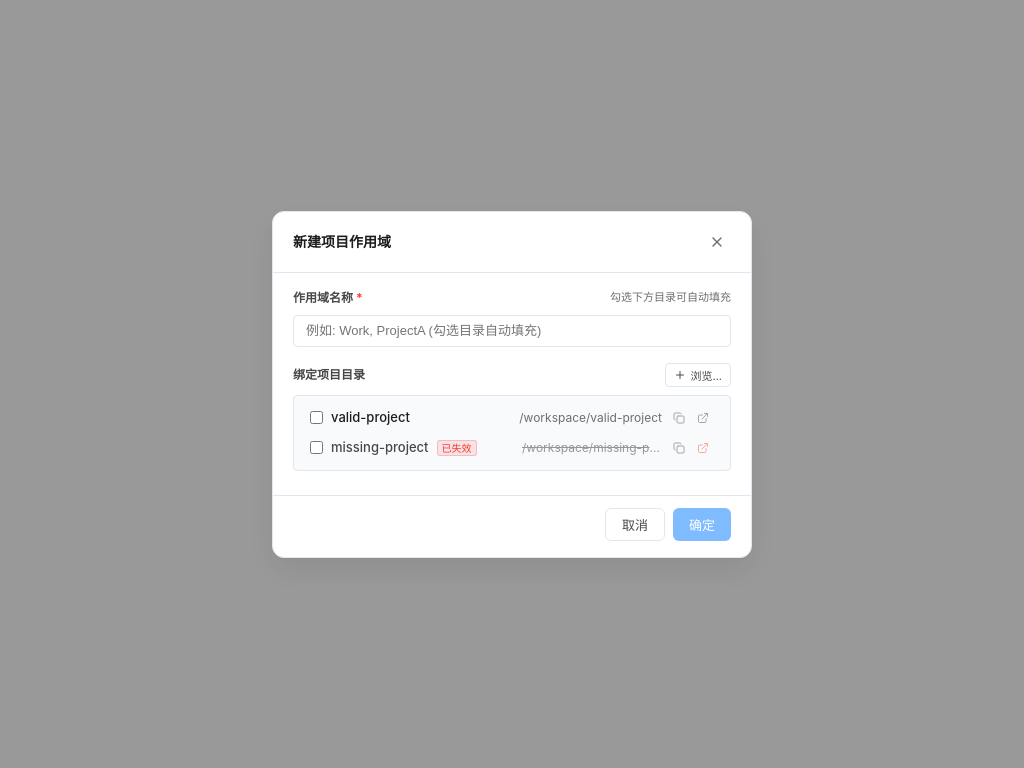
ProfileTabDialogs - 本地目录失效检测与 Finder 打开错误处理 › ProfileTabCreateDialog › 点击通过 Finder 打开不存在的目录时，给出错误通知并自动复制路径
This screenshot has width=1024, height=768.
Click the button named "目录不存在（点击复制路径）" at [703, 448], box left=692, top=436, right=714, bottom=458
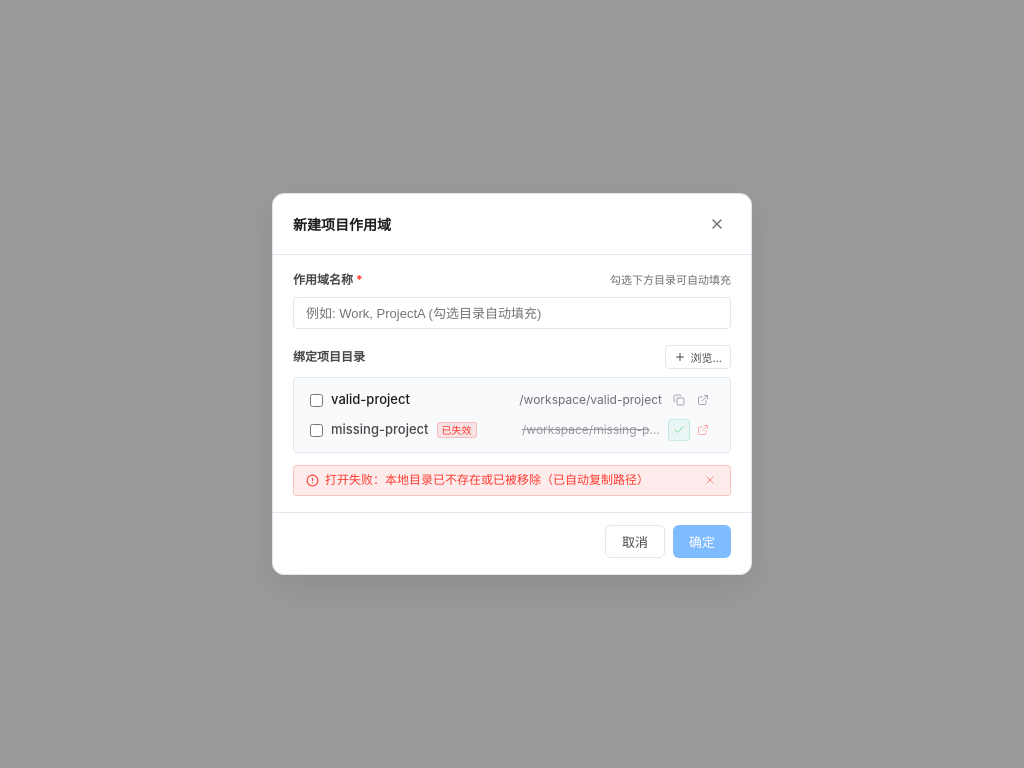
Now the element with class "action-notice" is shown, box left=293, top=465, right=731, bottom=496
Now the element with class "action-notice" reads "打开失败：本地目录已不存在或已被移除（已自动复制路径）", box left=325, top=472, right=649, bottom=487
